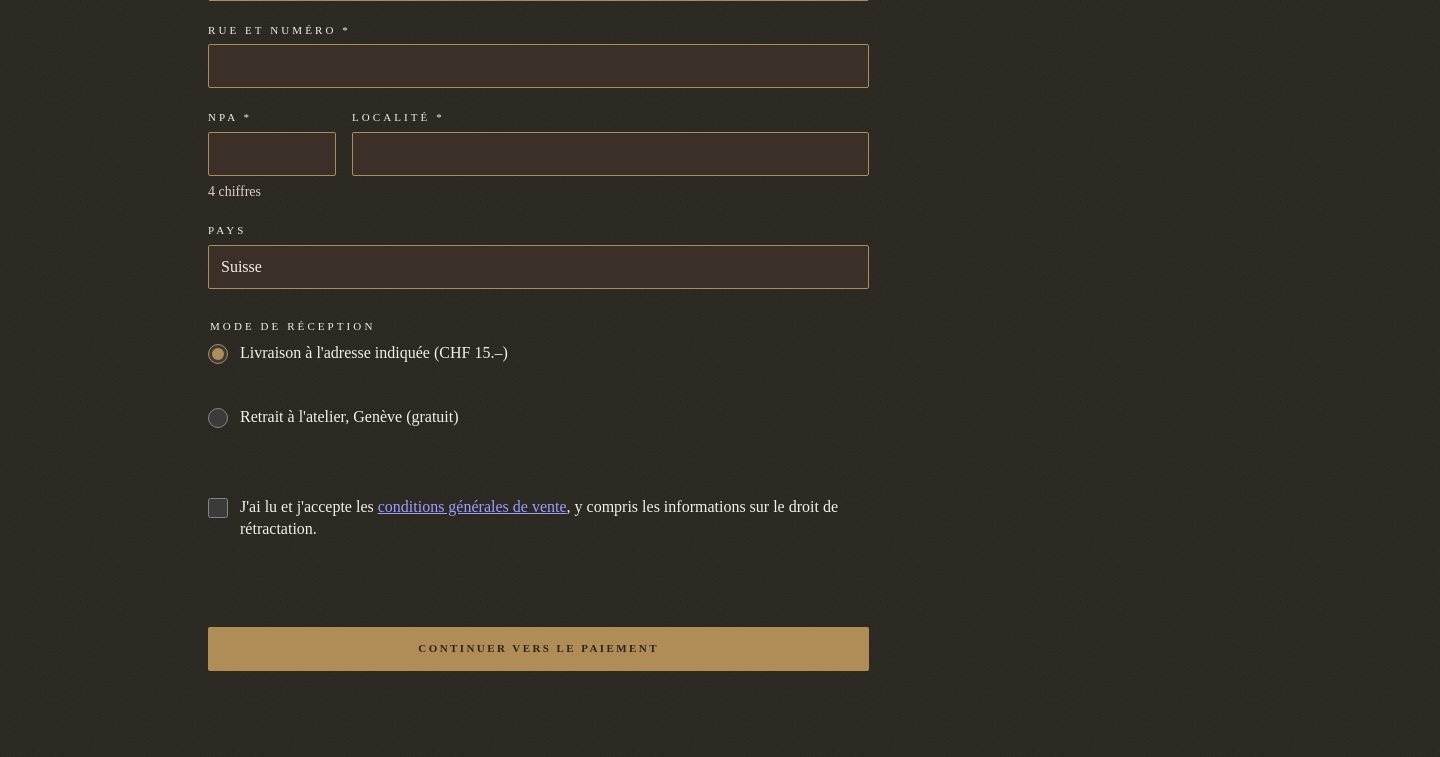
Test: E5-03 · checkout, coordonnées et livraison › affiche les frais avant paiement et les met à jour selon le mode
The width and height of the screenshot is (1440, 757).
(page scrolled)
What coordinates should you click on to do the following:
click the radio button labelled "Retrait à l'atelier, Genève (gratuit)"
I would click on:
 (218, 418)
Its box is left=208, top=408, right=228, bottom=428.
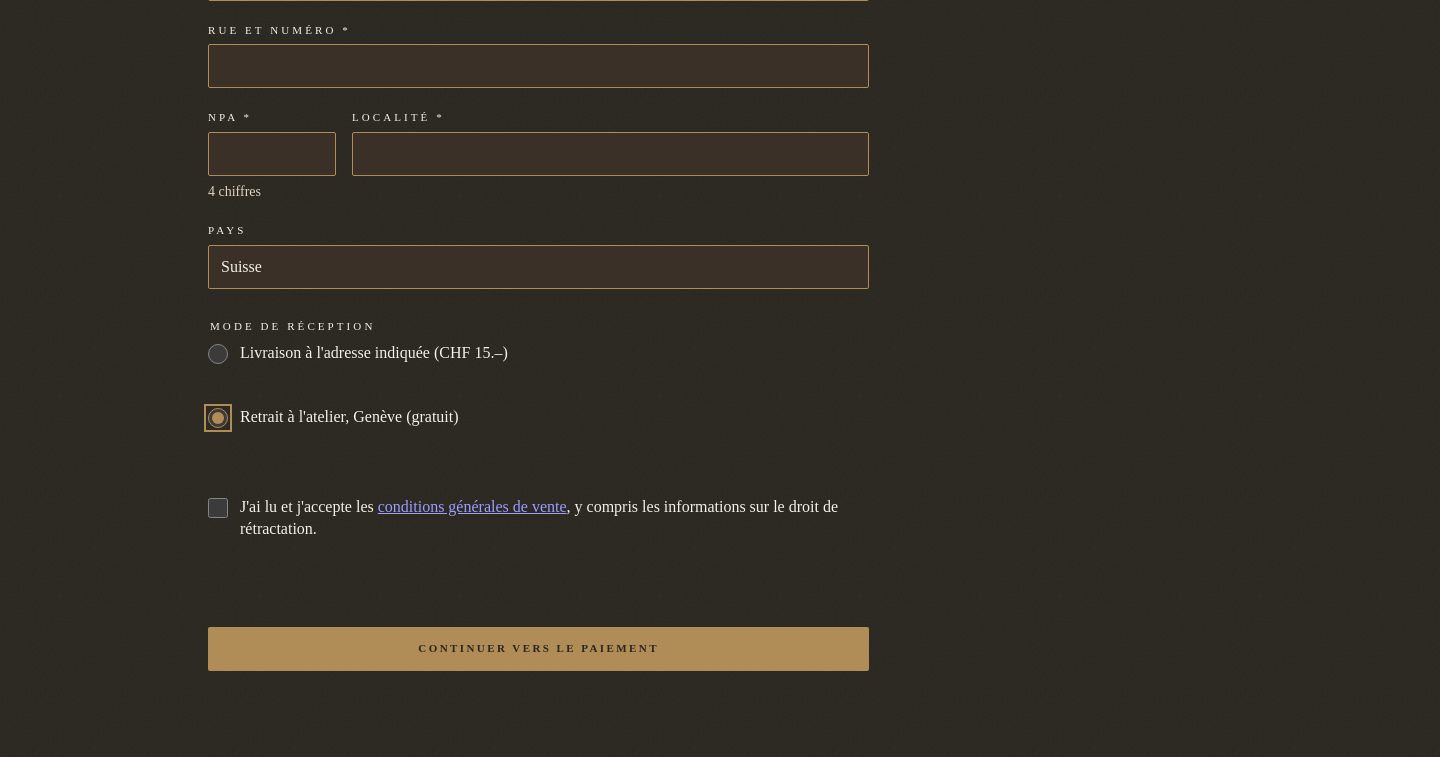
What coordinates should you click on to do the following:
click the radio button labelled "Livraison à l'adresse indiquée (CHF 15.–)"
I would click on:
 (218, 354)
Its box is left=208, top=344, right=228, bottom=364.
(page scrolled)
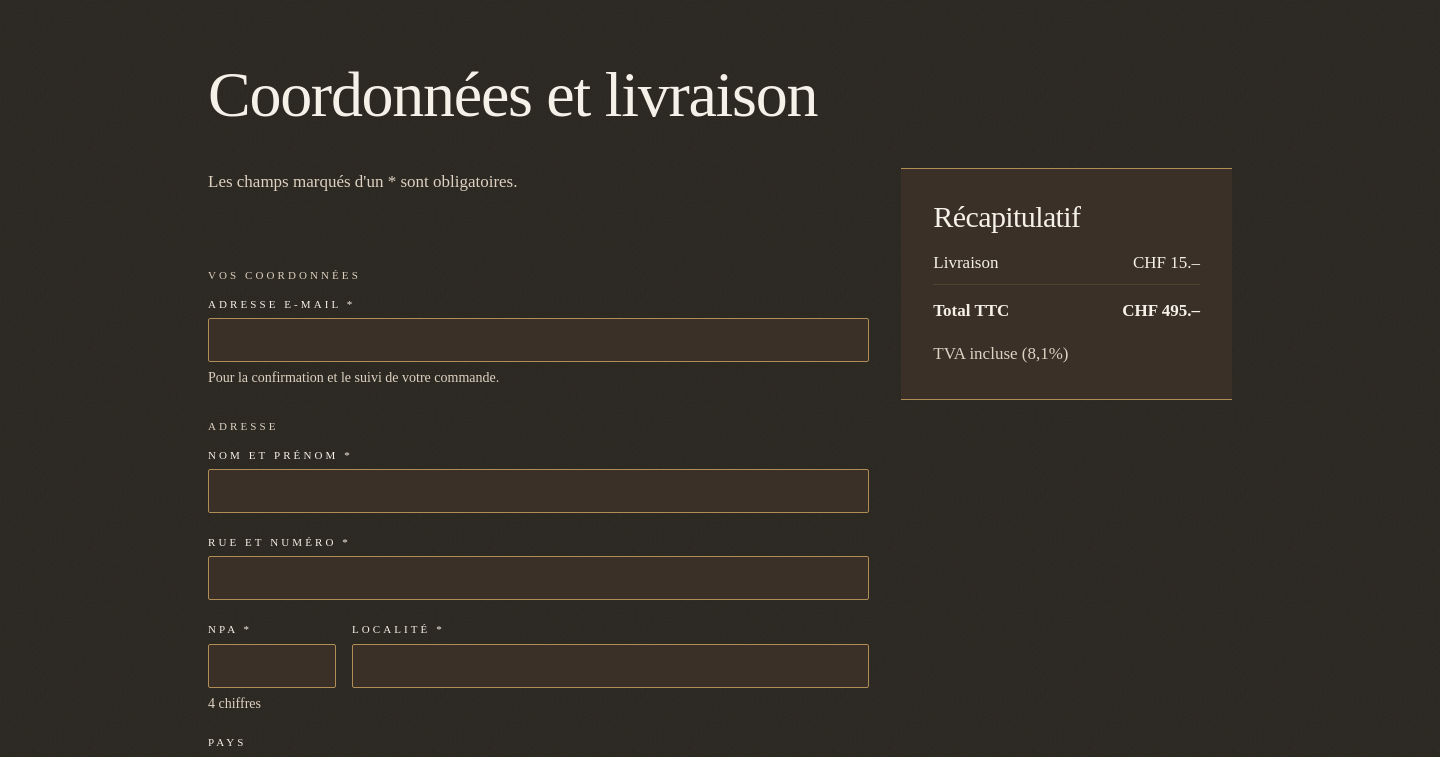
Expected: the text with test id "frais" reads "CHF 15.–", left=1133, top=253, right=1200, bottom=272
